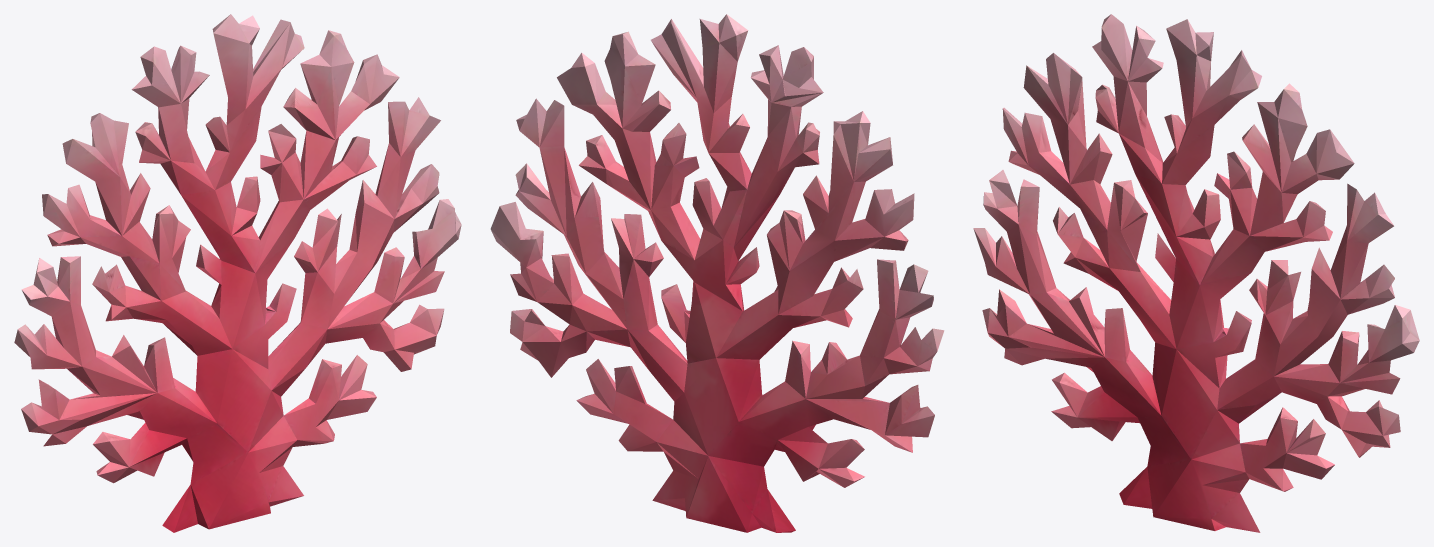
Rendered from coral.glb.
3 renders of one model, left to right at view 1: azimuth 30°, elevation 25°; view 2: azimuth 150°, elevation 25°; view 3: azimuth 330°, elevation 25°, orthographic.
Visible parts, largest first — view 1: Coral.001; view 2: Coral.001; view 3: Coral.001.
Part boxes in pixels (bbox=[...]): Coral.001: bbox=[14, 14, 461, 532]; Coral.001: bbox=[490, 14, 944, 532]; Coral.001: bbox=[973, 14, 1419, 532].
Bounding box in the file's own units: 0.426 × 0.4592 × 0.024.
Materials: 1 (1 with a texture image).
